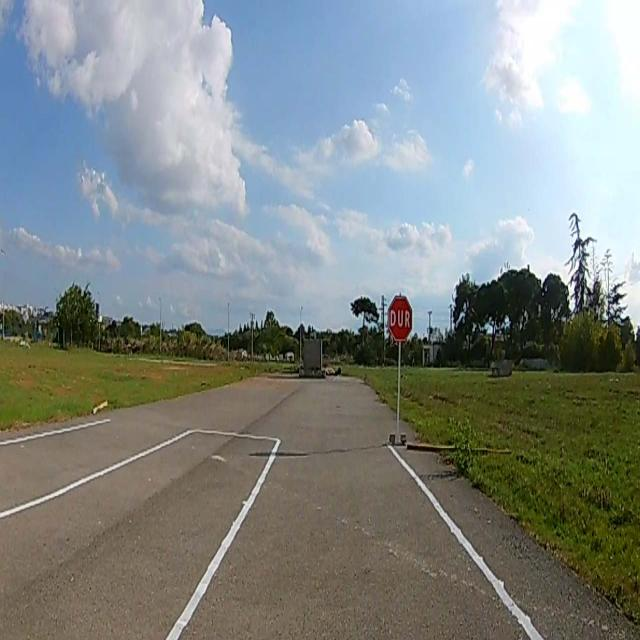dur: (388, 297, 414, 339)
